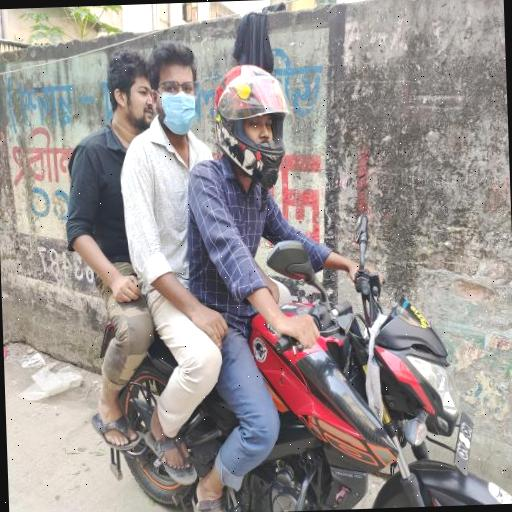helmet: (202, 51, 321, 212)
triple riding: (52, 15, 512, 512)
